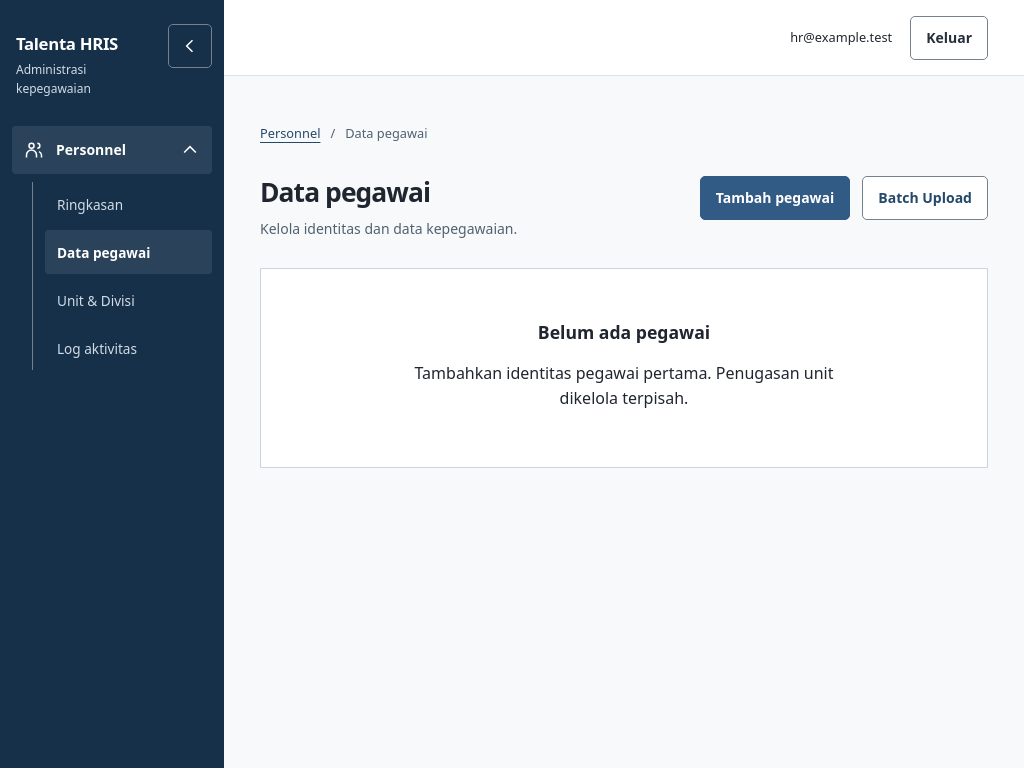
Test: Personnel discloses a second navigation level without the workspace label
expect the link "Unit & Divisi" is shown: met, box [57,291,135,310]
expect the link "Log aktivitas" is shown: met, box [57,339,137,358]
Click the button "Personnel" at (112, 150), box [12,126,212,174]
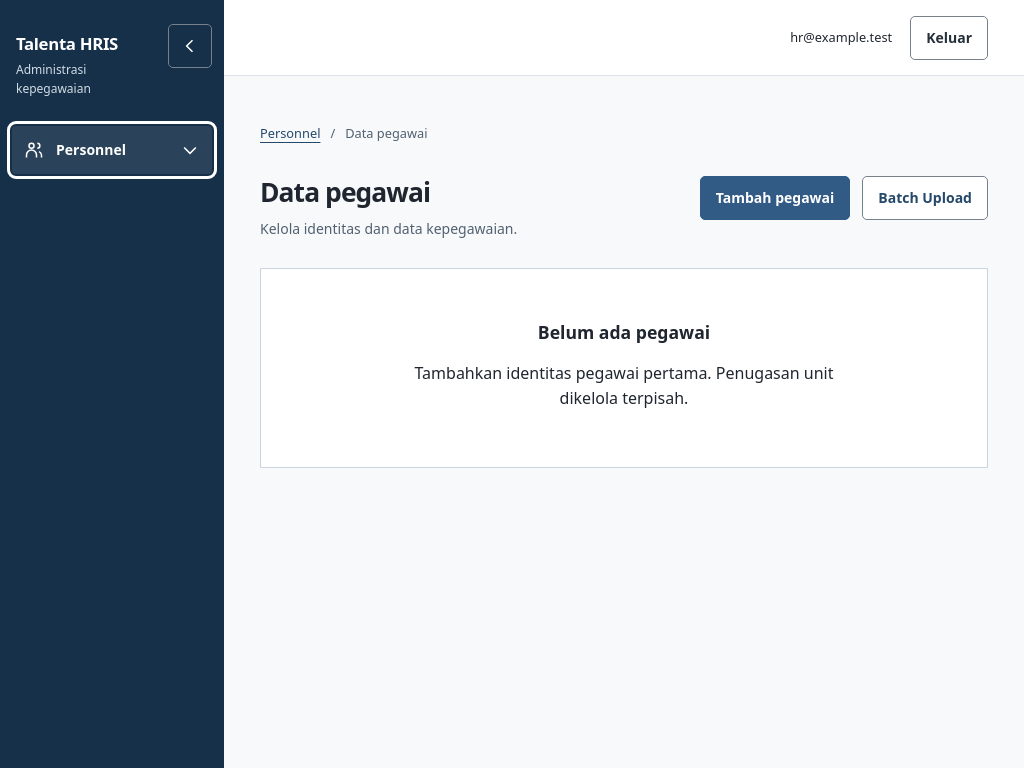
expect the button "Personnel" is collapsed: met, box [12,126,212,174]
Type keys " "
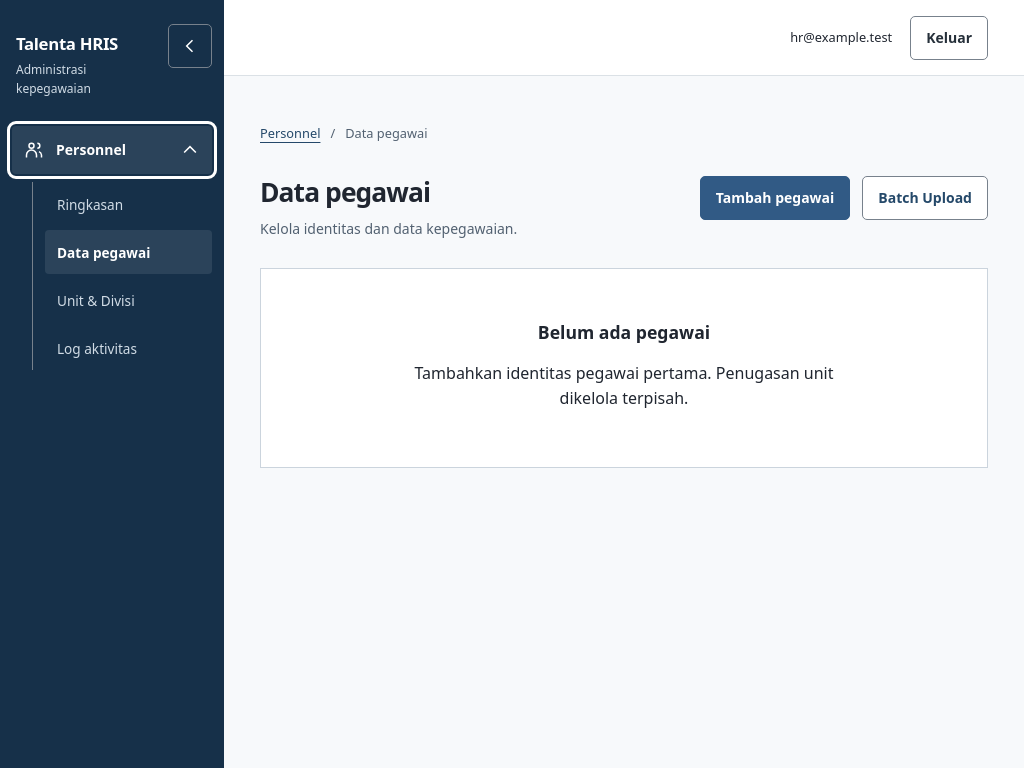
expect the button "Personnel" is expanded: met, box [12,126,212,174]
expect the link "Data pegawai" is shown: met, box [45,230,212,274]
